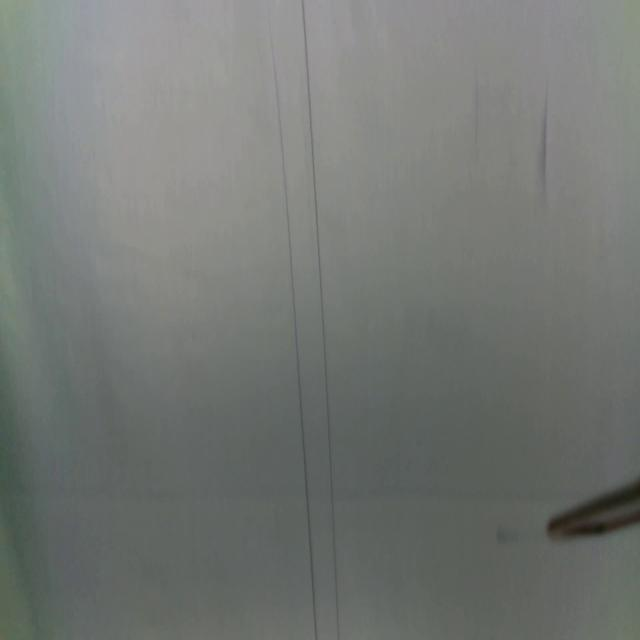color bleeding: (2, 481, 574, 510)
crease: (270, 4, 318, 640), (302, 0, 342, 637)
